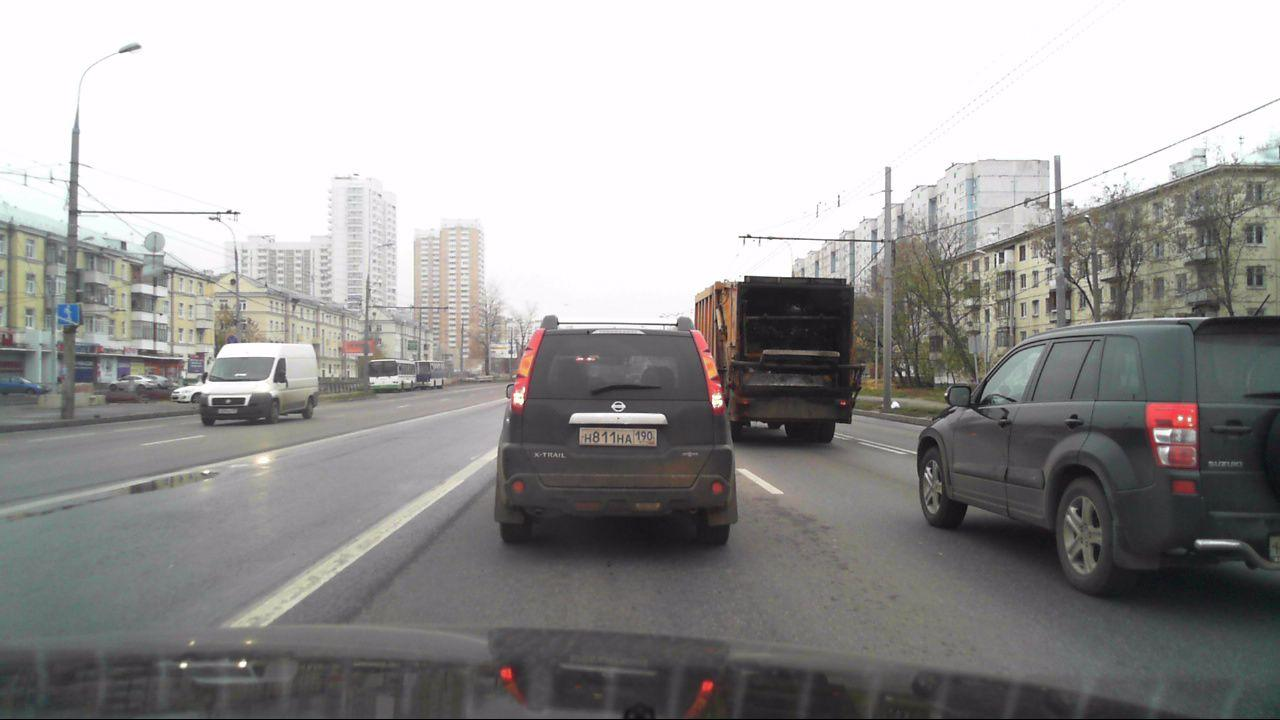6_6: (57, 303, 80, 325)
